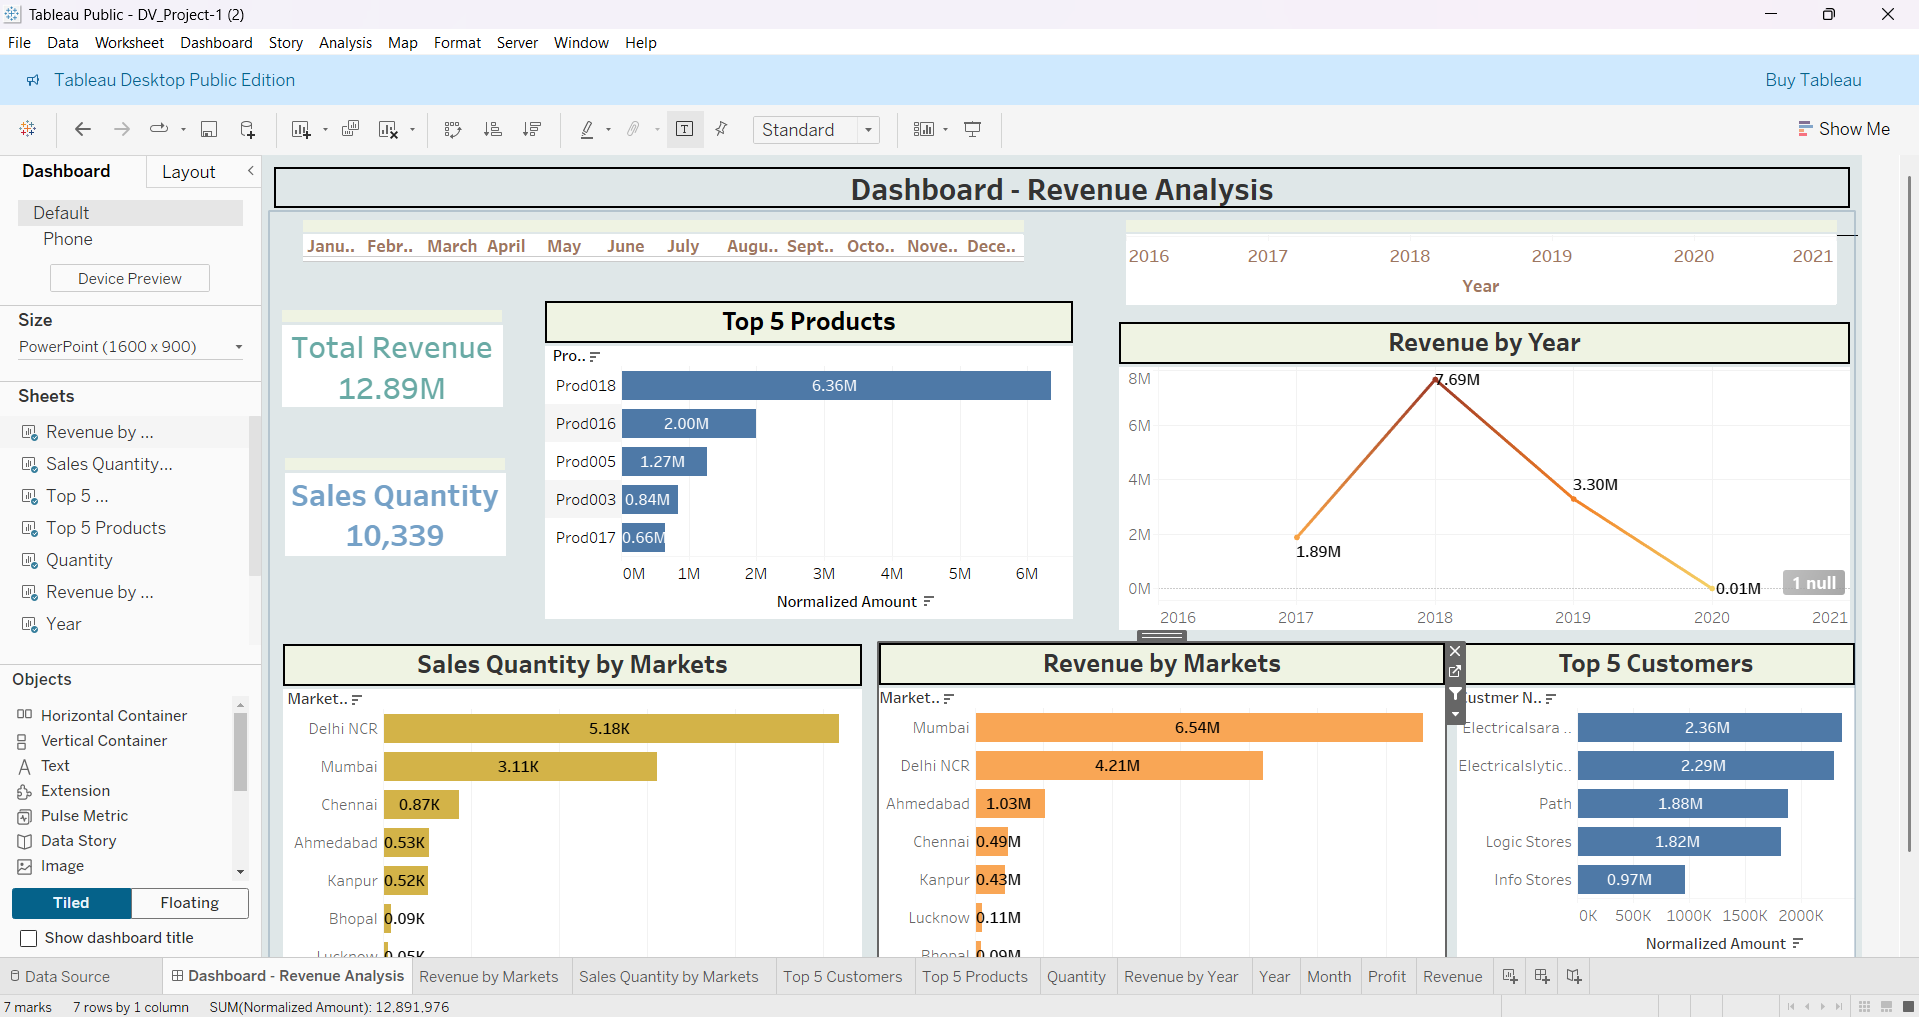

Layout of this report page (visuals, bound fields, positions):
{"tool":"tableau","page":{"name":"Dashboard - Revenue Analysis","canvas":[1600,900],"ordinal":0},"visuals":[{"type":"title","box":[8,8,1584,49]},{"type":"worksheet","title":"Month","mark":"Automatic","cols":["month_name"],"box":[41,65,840,69]},{"type":"worksheet","title":"Year","mark":"Automatic","cols":["year"],"box":[864,65,732,85]},{"type":"worksheet","title":"Top 5 Products","mark":"Automatic","rows":["product_code (products)"],"cols":["Calculation_1247215647217033216"],"box":[283,146,528,324]},{"type":"worksheet","title":"Revenue","mark":"Automatic","box":[20,155,248,108]},{"type":"worksheet","title":"Revenue by Year","mark":"Automatic","rows":["Calculation_1247215647217033216"],"cols":["year"],"box":[857,167,731,308]},{"type":"worksheet","title":"Quantity","mark":"Automatic","box":[23,303,230,130]},{"type":"worksheet","title":"Revenue by Markets","mark":"Automatic","rows":["markets_name"],"cols":["Calculation_1247215647217033216"],"box":[617,488,566,398]},{"type":"worksheet","title":"Sales Quantity by Markets","mark":"Automatic","rows":["markets_name"],"cols":["sales_qty"],"box":[21,489,579,399]}]}

Visuals, with their boxes on the page's 1600x900 design canvas (x1, y1, x2, y2). These are canvas units, not pixel positions in the 1919x1017 screenshot, which may show the page scaled, cropped or inside an application window:
title: 8:8:1592:57
"Month" worksheet: 41:65:881:134
"Year" worksheet: 864:65:1596:150
"Top 5 Products" worksheet: 283:146:811:470
"Revenue" worksheet: 20:155:268:263
"Revenue by Year" worksheet: 857:167:1588:475
"Quantity" worksheet: 23:303:253:433
"Revenue by Markets" worksheet: 617:488:1183:886
"Sales Quantity by Markets" worksheet: 21:489:600:888
